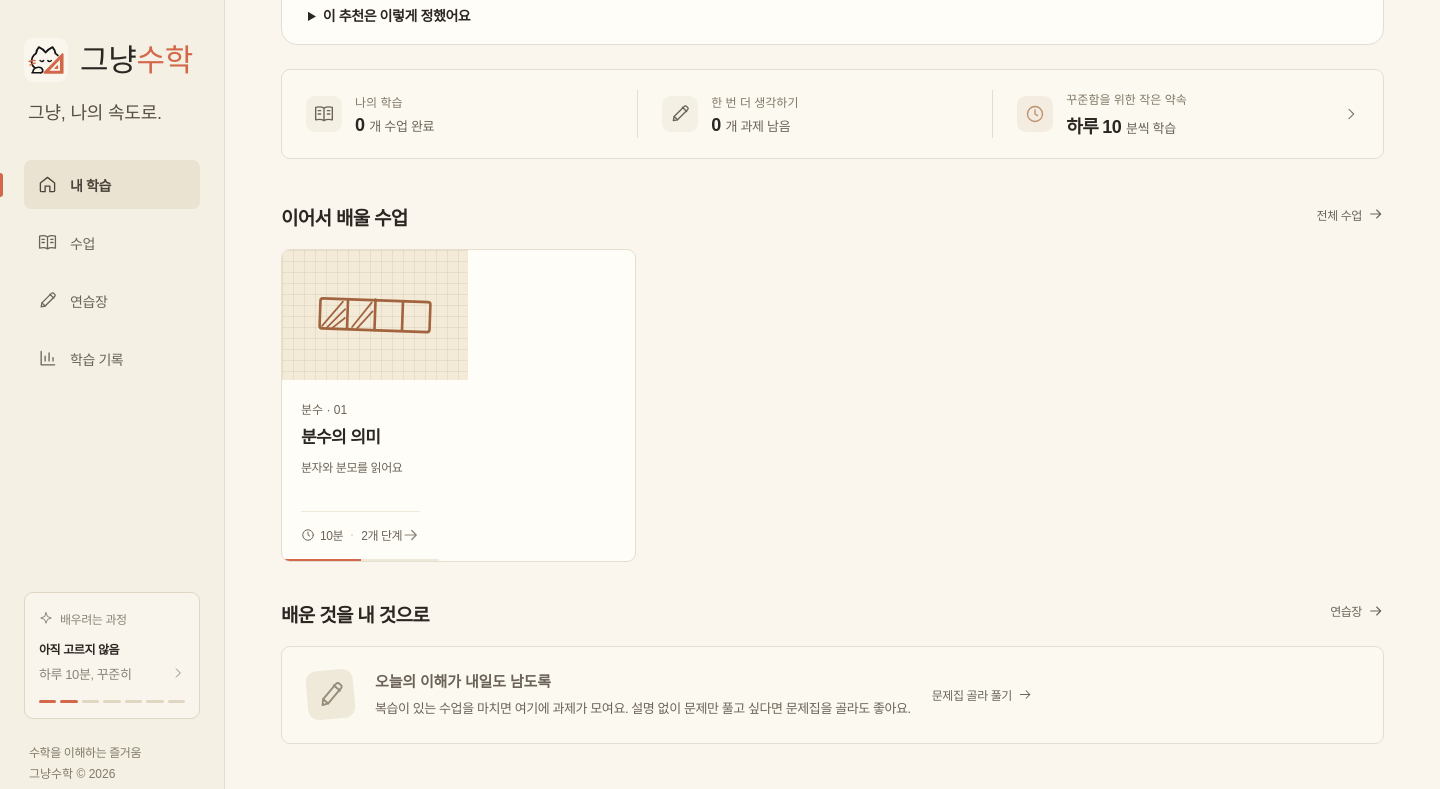
Test: reading the worked solution › opens it once an answer is in, even a wrong one, and folds it away again
The width and height of the screenshot is (1440, 789).
(page scrolled)
Click the button "분수 · 01 분수의 의미 분자와 분모를 읽어요 10분 2개 단계" at x=375, y=315, box [281, 249, 636, 562]
Wait 1 ms
(page scrolled)
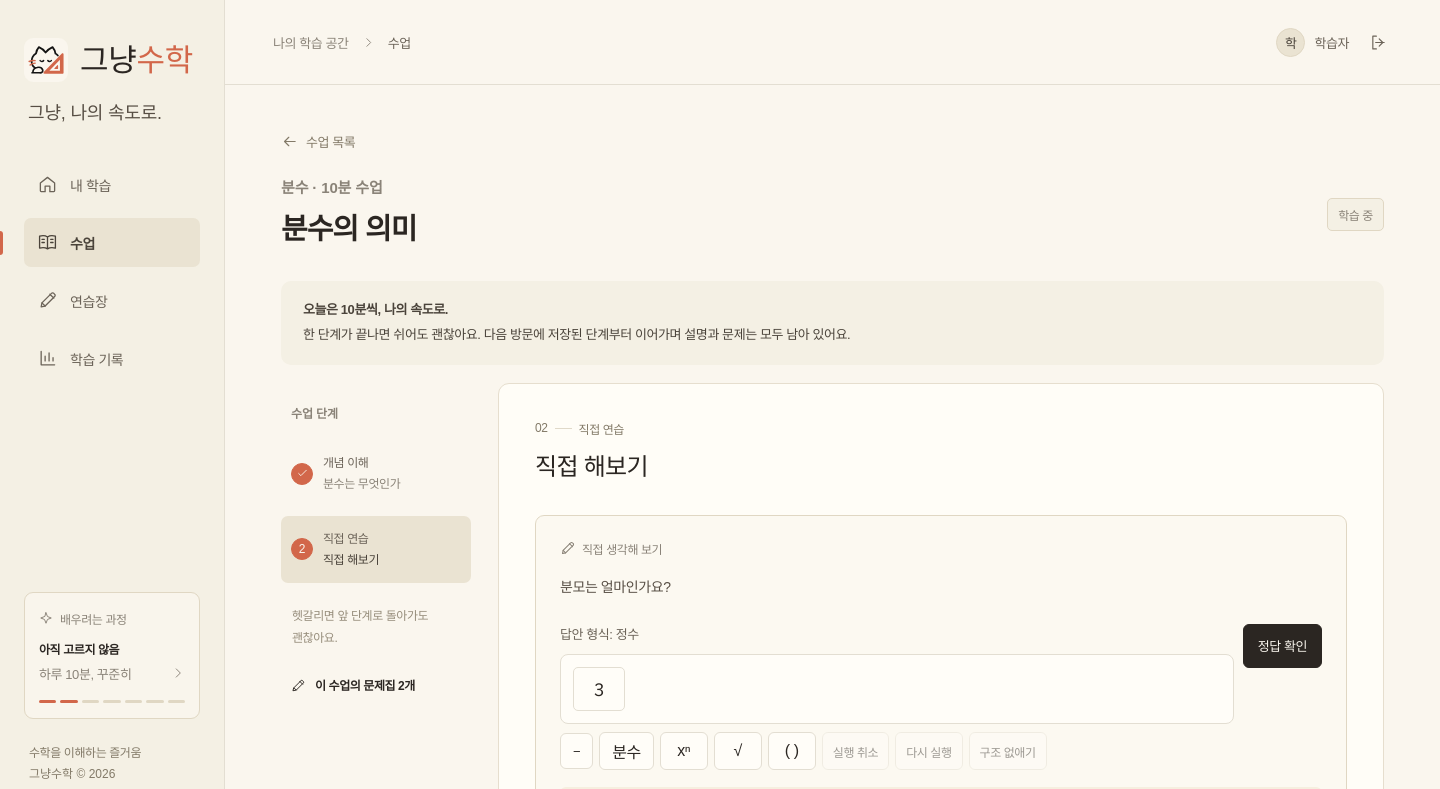
Expected: the heading "분수의 의미" is shown, [281, 206, 416, 252]
Click the button "2 직접 연습 직접 해보기" at x=376, y=549, box [281, 516, 471, 583]
(page scrolled)
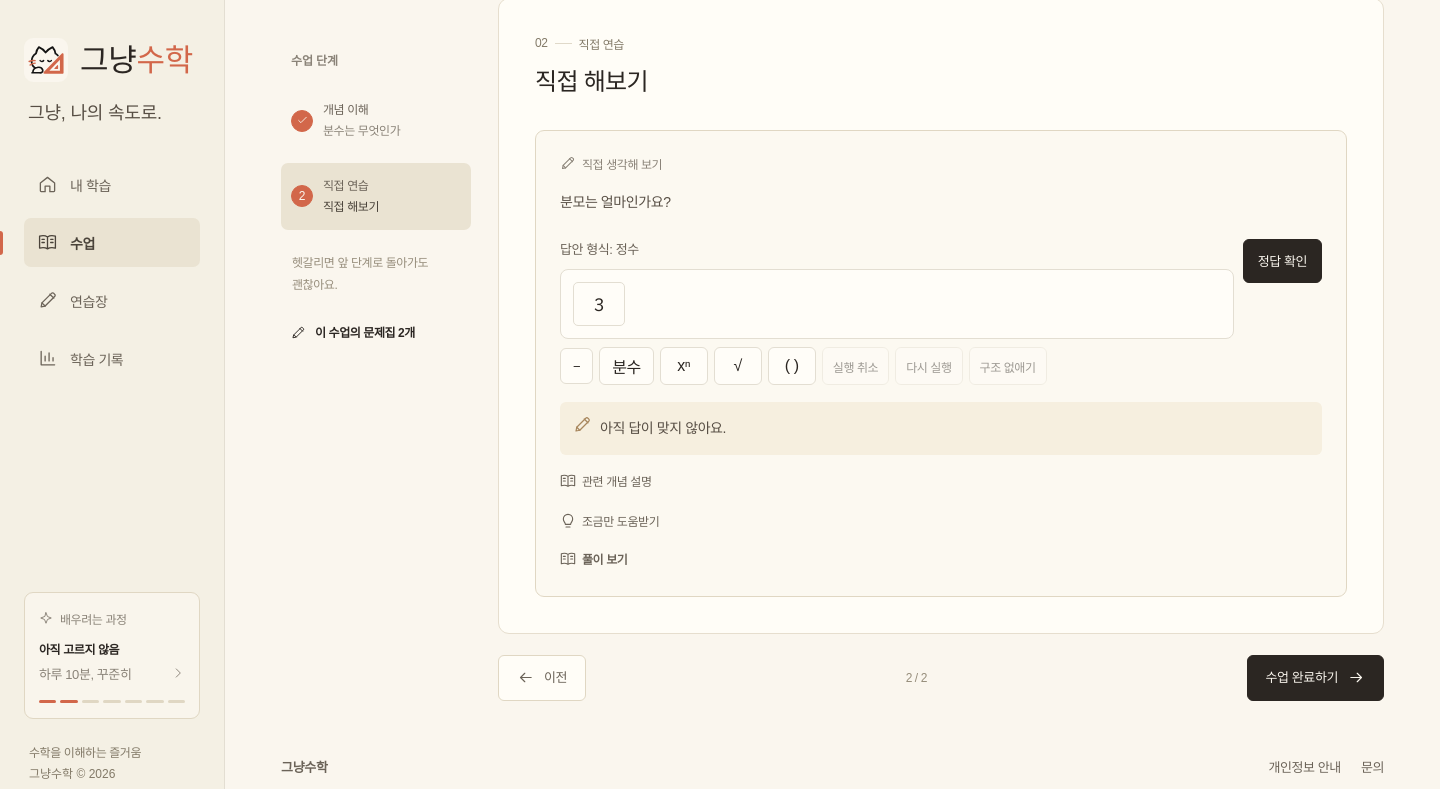
Expected: the button "풀이 보기" is shown
Click the button "풀이 보기" at x=594, y=558, box [560, 545, 627, 572]
Wait 1 ms
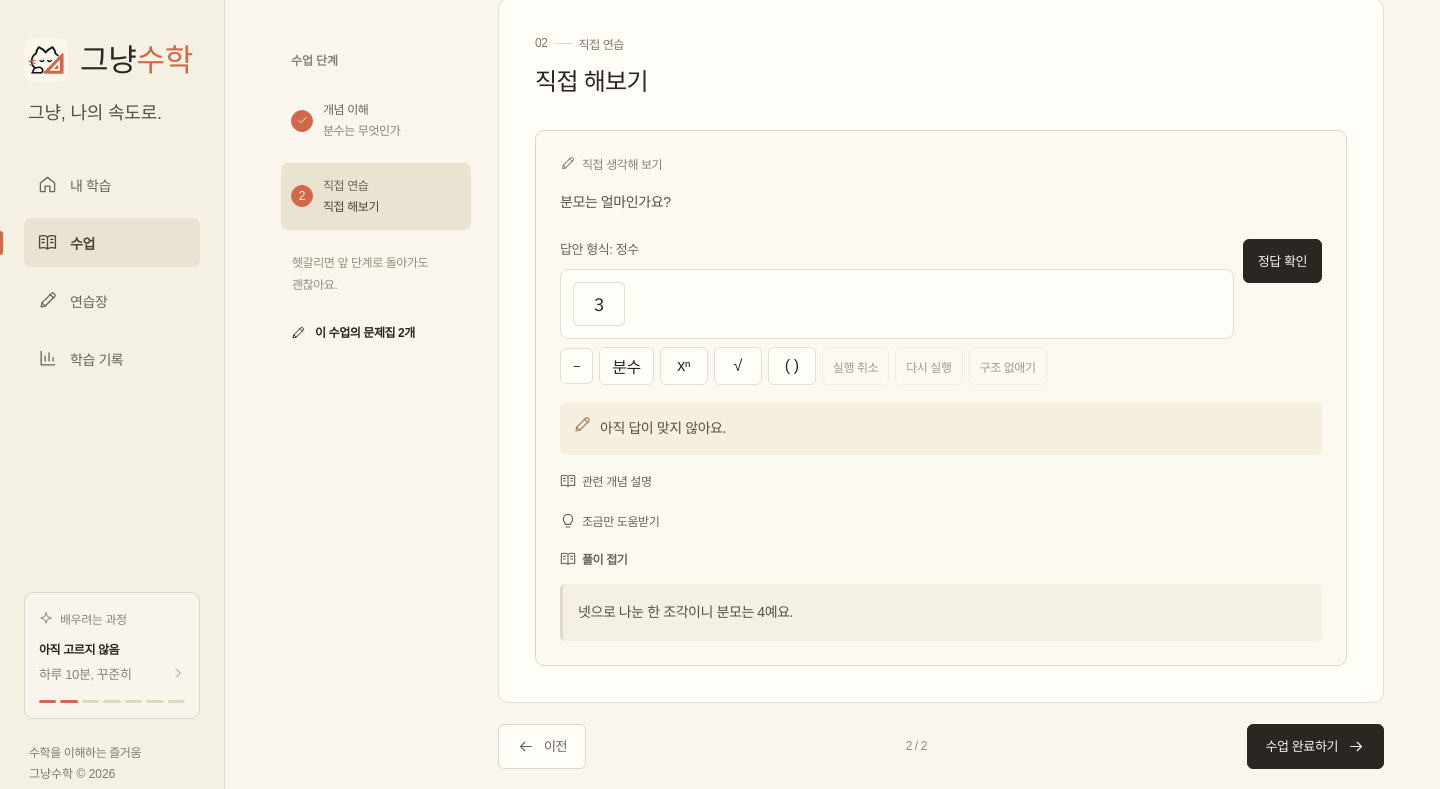
Expected: the text "넷으로 나눈 한 조각이니 분모는 4예요." is shown, [578, 604, 793, 620]
Click the button "풀이 접기" at x=594, y=558, box [560, 545, 627, 572]
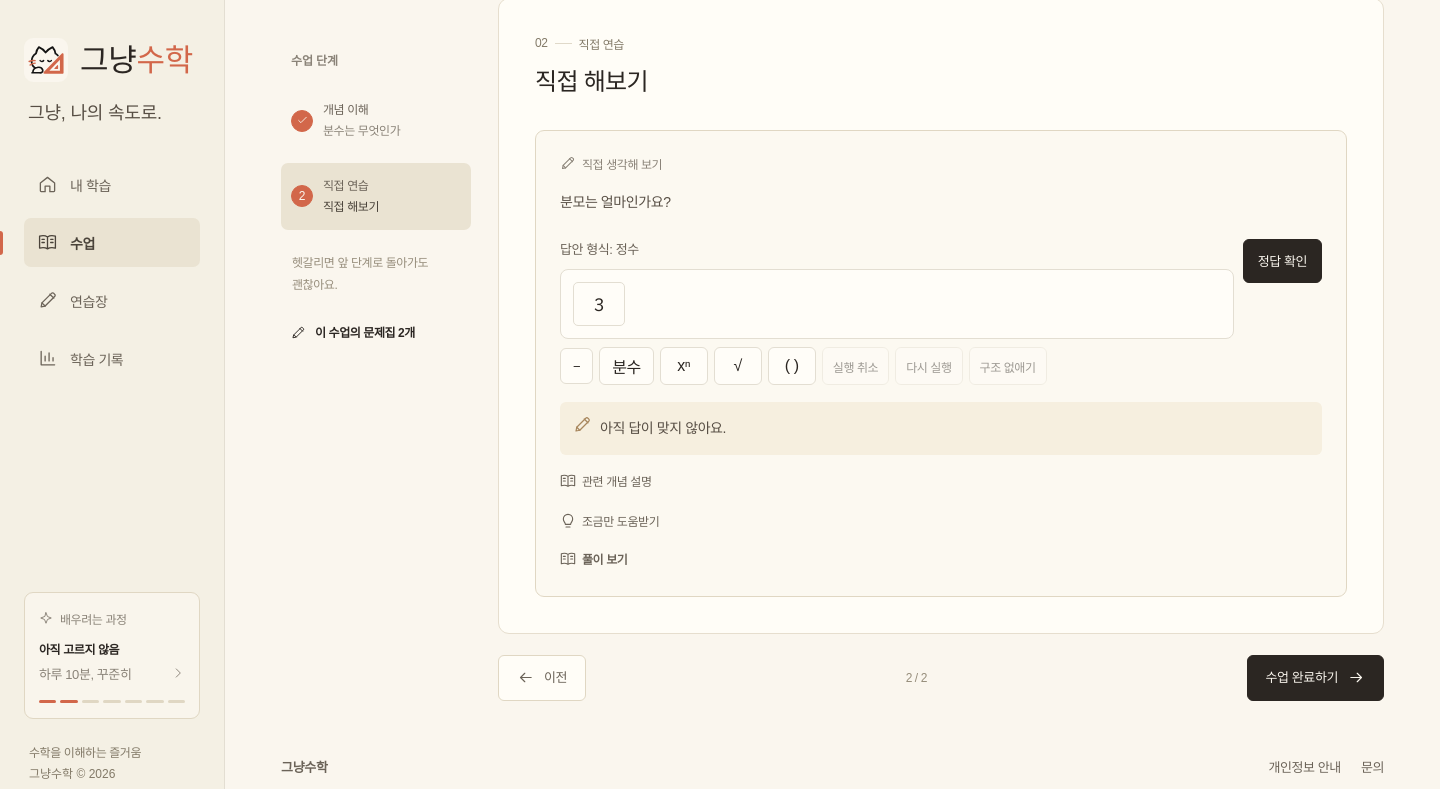
Expected: the text "넷으로 나눈 한 조각이니 분모는 4예요." is gone
